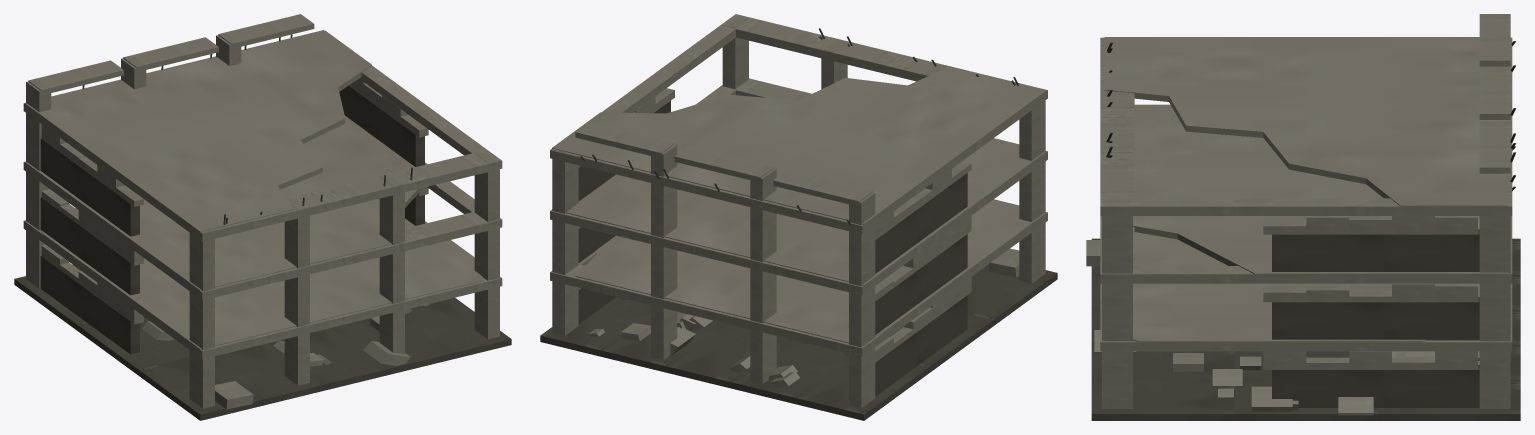
Rendered from ash-ruin.glb.
3 views of the same model, side by side, from view 1: azimuth 30°, elevation 25°; view 2: azimuth 150°, elevation 25°; view 3: azimuth 270°, elevation 25° (orthographic). The views are drawn at different scales.
Parts seen in each view (by area): view 1: ash-ruin.001; view 2: ash-ruin.001; view 3: ash-ruin.001.
Part boxes in pixels (x1=…): ash-ruin.001: x1=14, y1=14, x2=511, y2=420; ash-ruin.001: x1=540, y1=14, x2=1057, y2=420; ash-ruin.001: x1=1086, y1=14, x2=1520, y2=420.
Size of the model in its own units: 7.77 by 4.81 by 8.
Materials: 1 (1 with a texture image).
